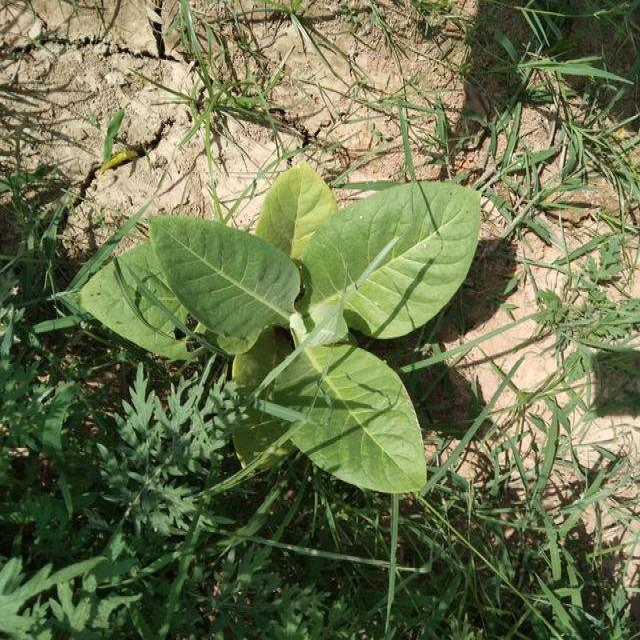crop: (88, 148, 500, 491)
